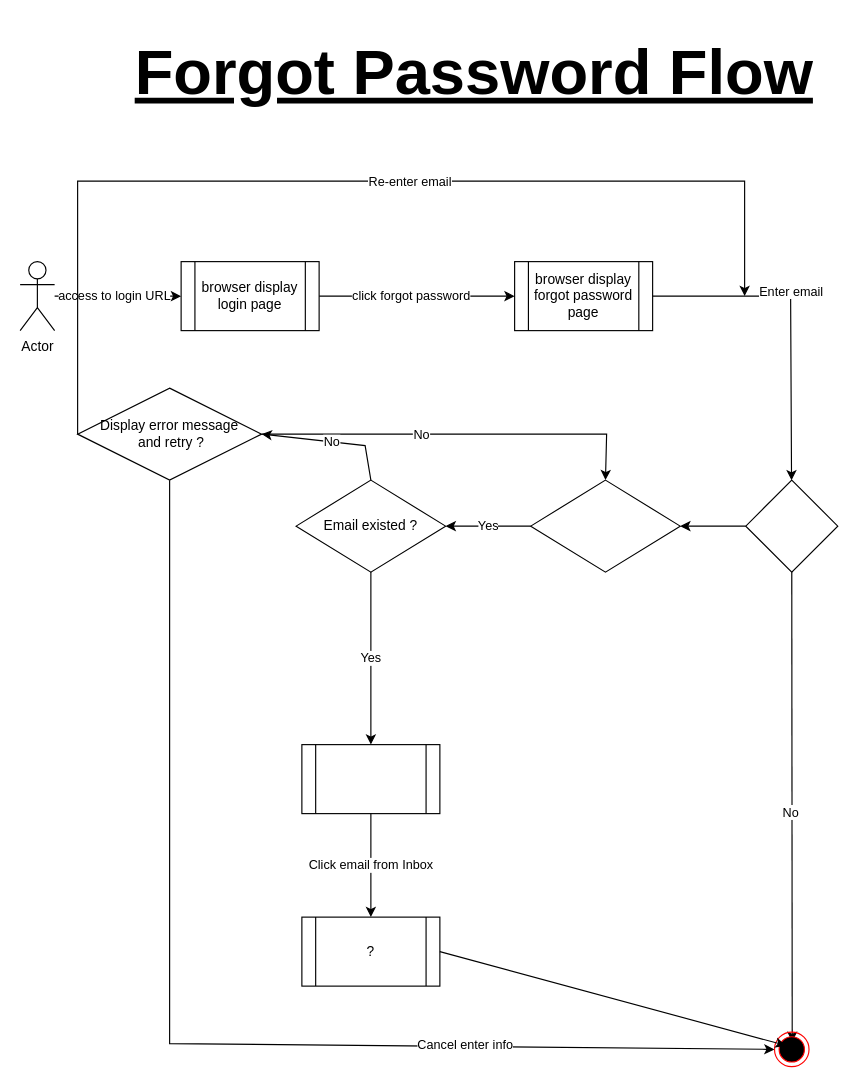
Some shapes in this 858 by 1087 pixel diagram are drawn without their labels. The centre of each missing label's shape, as x and y in pixels:
"Process send email" goes at (x=370, y=778).
"Recover ?" goes at (x=791, y=525).
"Validate email" goes at (x=605, y=525).
